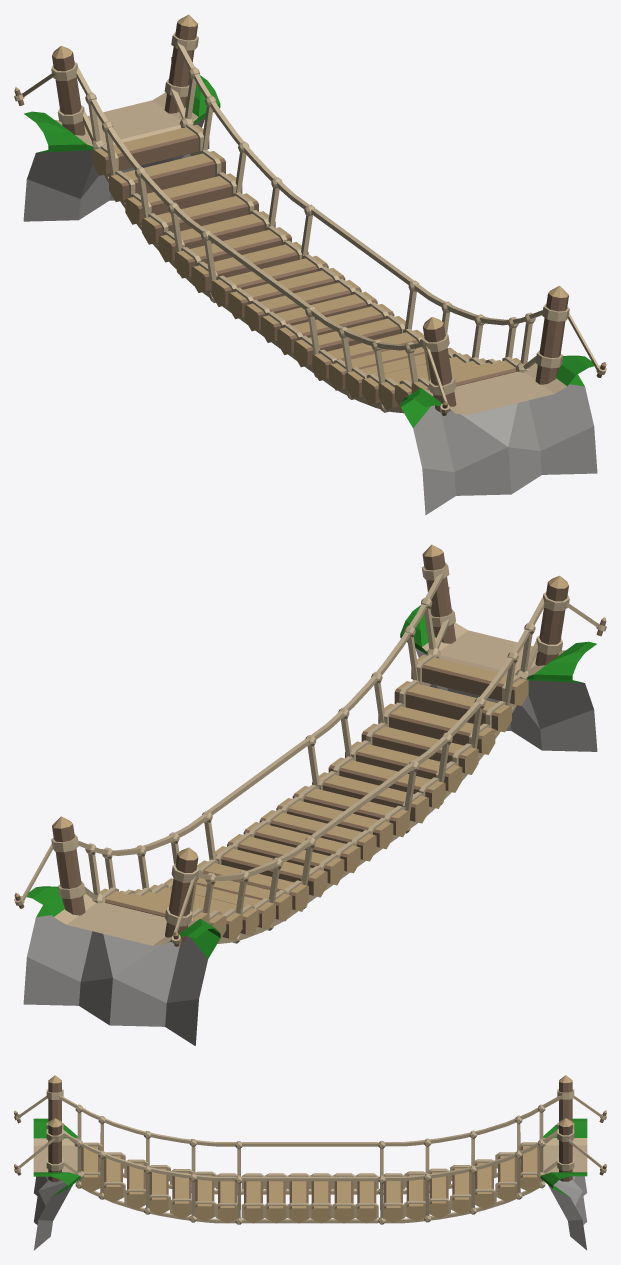
Rendered from Bridge.obj.
3 renders of one model, top to bottom at view 1: azimuth 30°, elevation 25°; view 2: azimuth 150°, elevation 25°; view 3: azimuth 270°, elevation 25°, orthographic. The views are drawn at different scales.
Parts seen in each view (by area): view 1: object7; view 2: object7; view 3: object7.
Part boxes in pixels (left/top/right/bottom): object7: left=14, top=14, right=606, bottom=514; object7: left=14, top=544, right=606, bottom=1045; object7: left=14, top=1075, right=606, bottom=1250.
Size of the model in its own units: 2.01 by 2.02 by 8.67.
